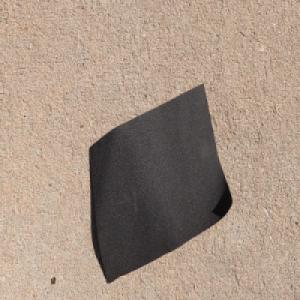PaintChip: (88, 82, 233, 284)
